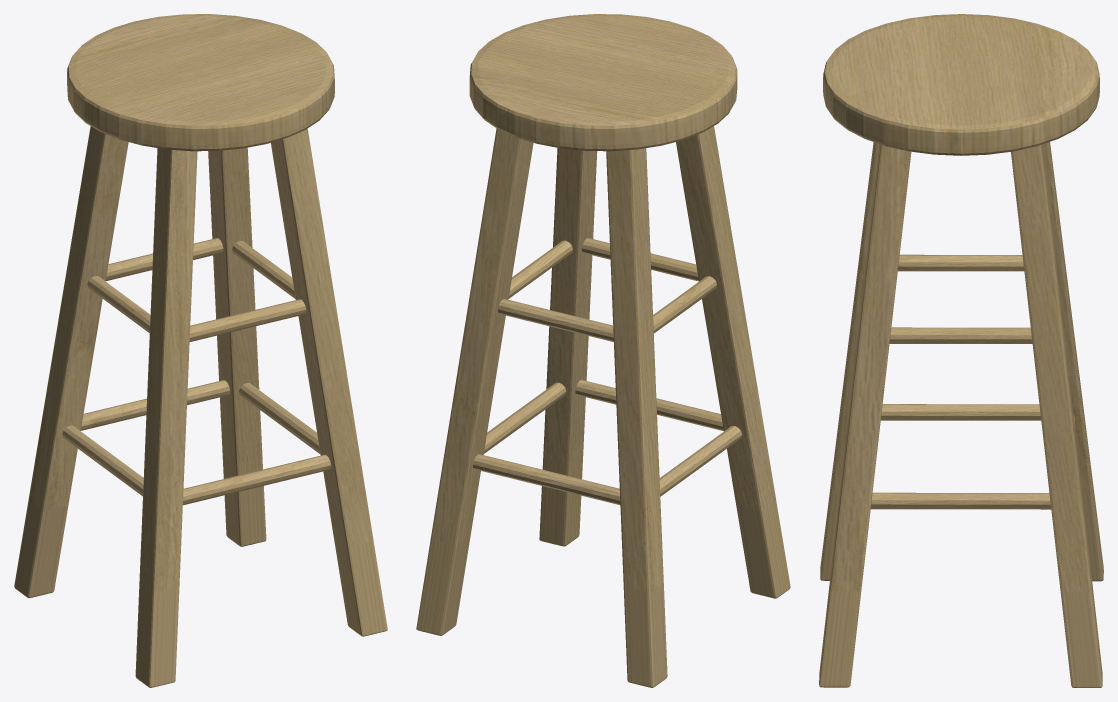
Rendered from stool2.obj.
3 renders of one model, left to right at view 1: azimuth 30°, elevation 25°; view 2: azimuth 150°, elevation 25°; view 3: azimuth 270°, elevation 25°, orthographic. The views are drawn at different scales.
Parts seen in each view (by area): view 1: Cube.028_Cube.029; view 2: Cube.028_Cube.029; view 3: Cube.028_Cube.029.
Part boxes in pixels (x1,y1,x2,y2): Cube.028_Cube.029: [14, 14, 387, 687]; Cube.028_Cube.029: [416, 14, 790, 687]; Cube.028_Cube.029: [819, 14, 1103, 687].
Bounding box in the file's own units: 36.08 × 78 × 36.08.
